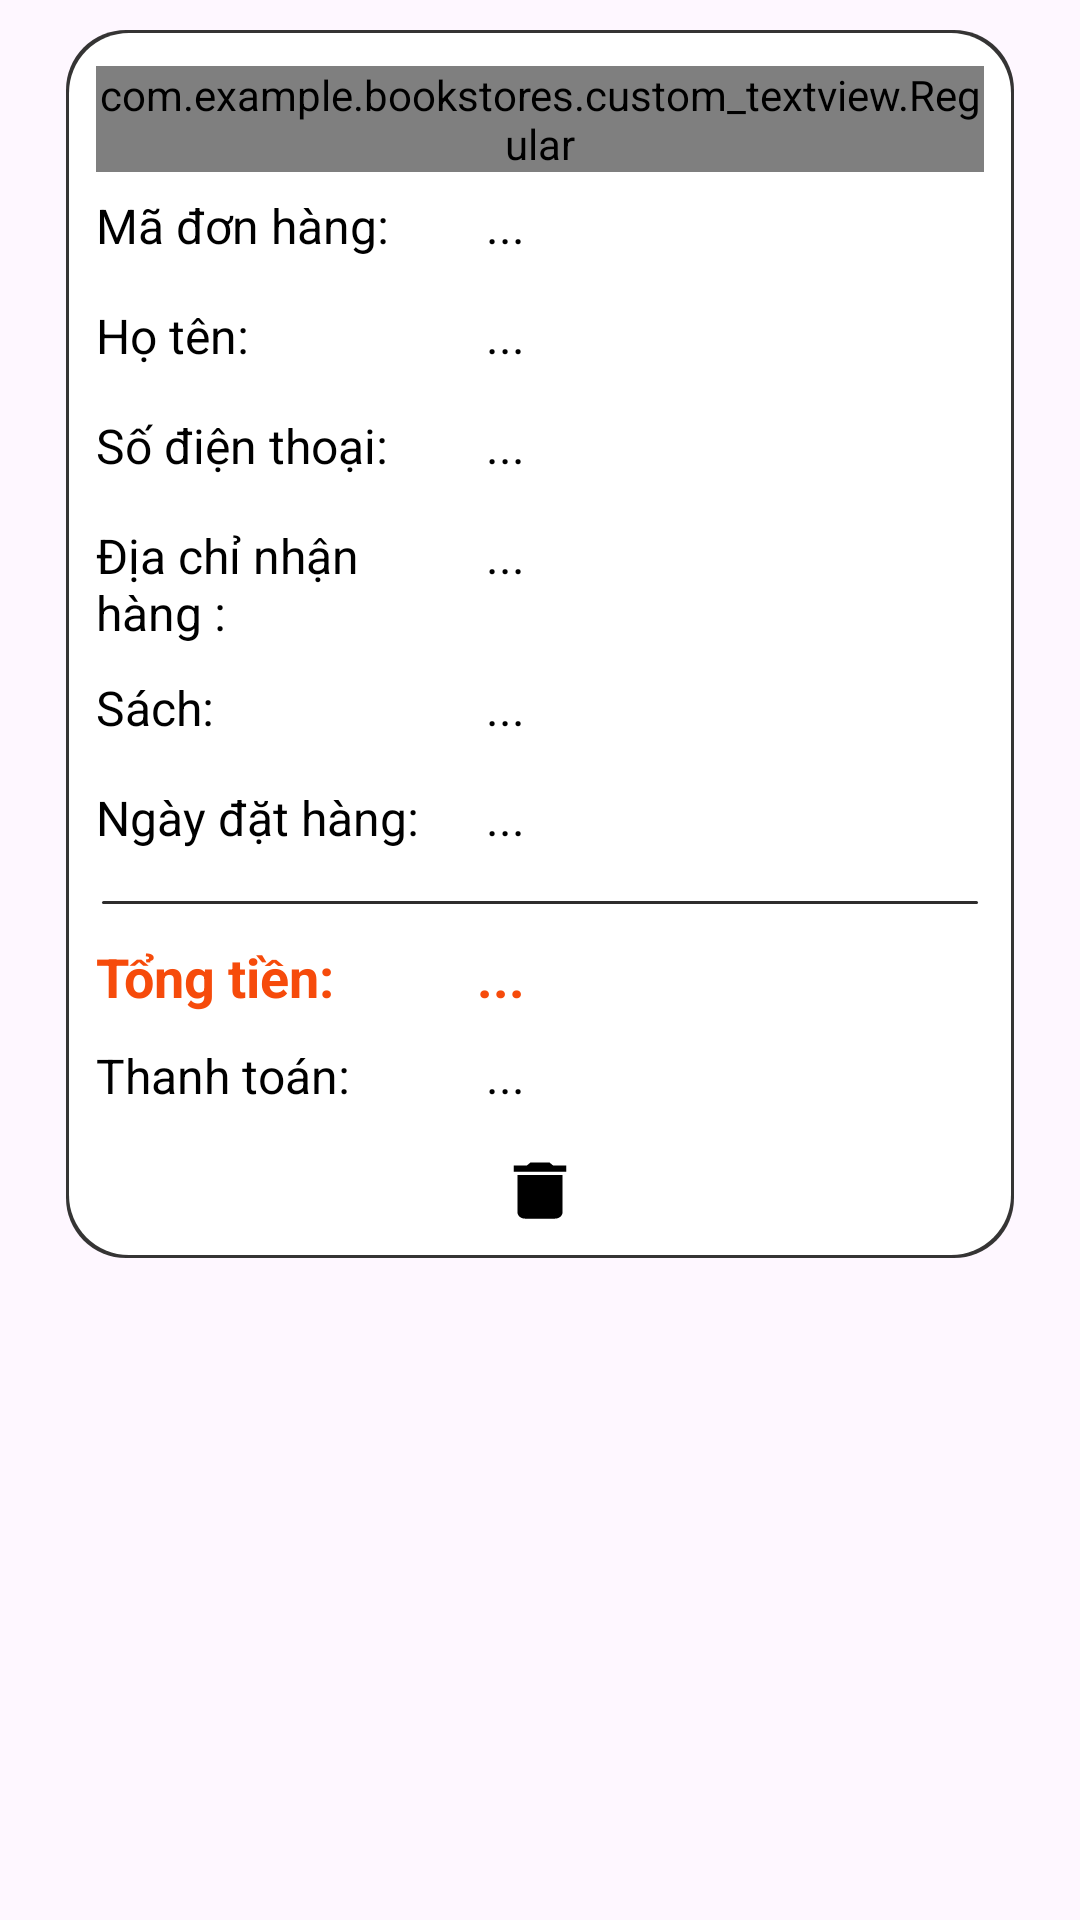

Locate icon controls on the screen. Image size 1080x1920, boxes as [x1=x1, y1=y1, x2=x2, y2=y2].
delete: [x1=513, y1=1162, x2=567, y2=1219]
